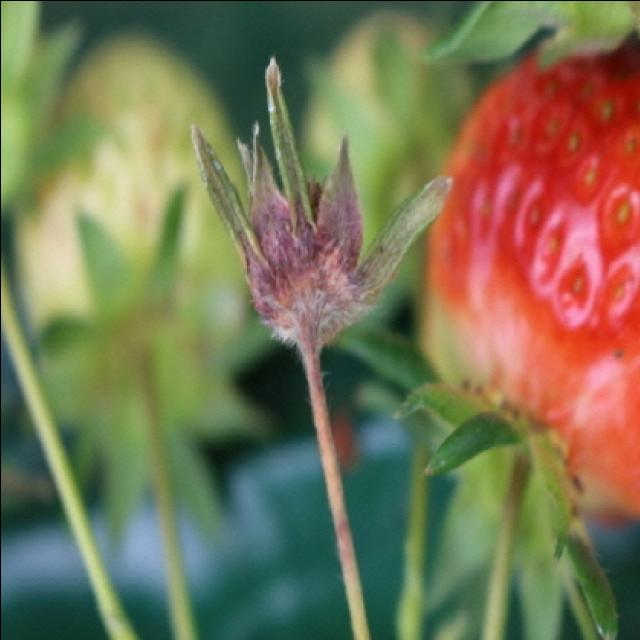Gray Mold: (191, 58, 452, 367)
